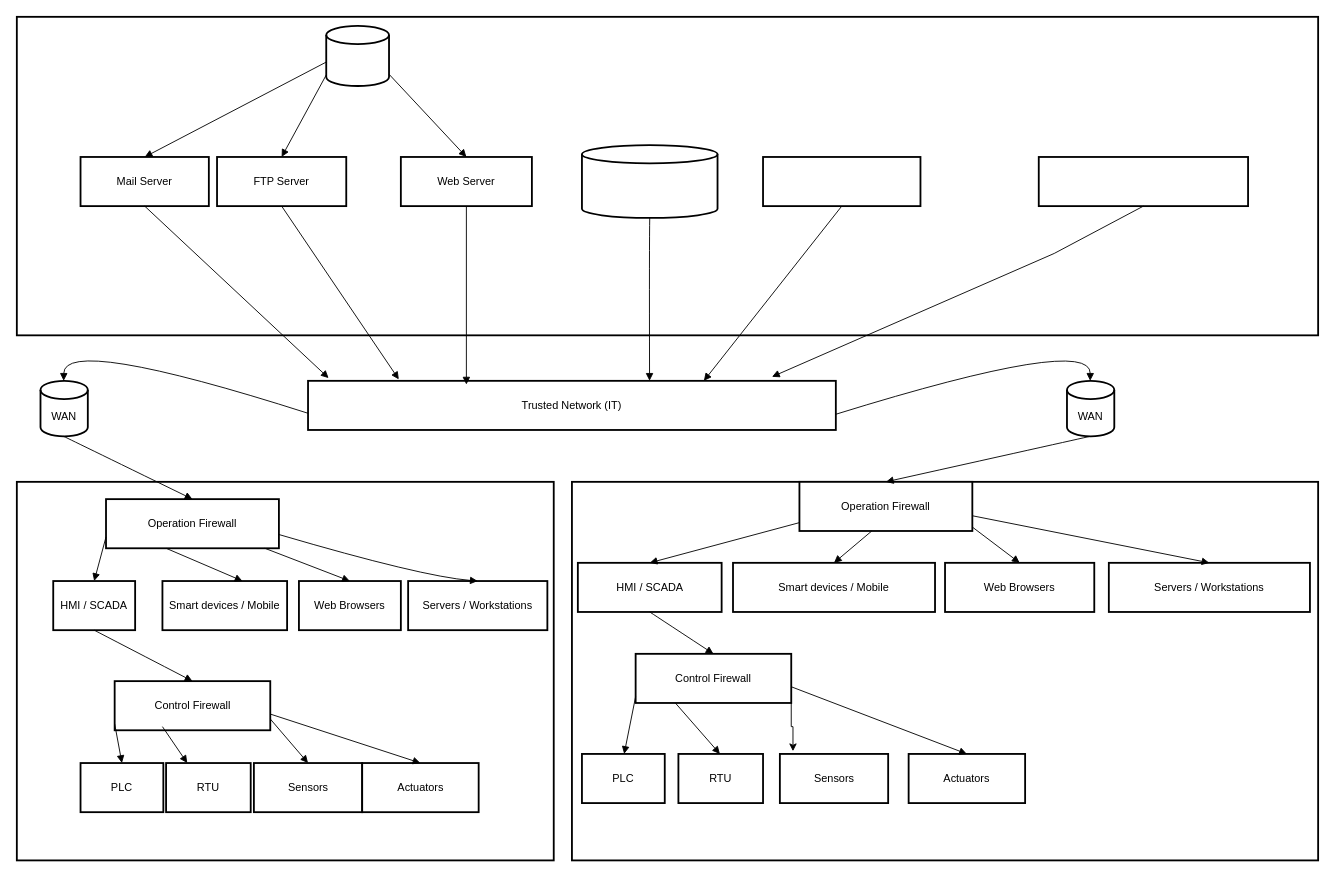
Image size: 1334x876. Some labels were removed from this diagram. The box of each missing label's shape, as (x1, y1, x2, y2) in pixels:
Enterprise Workstations: (1037, 156, 1249, 207)
Internal Databases: (581, 144, 718, 218)
Internal Servers: (762, 156, 921, 207)
Internet: (325, 25, 389, 86)
IT Network: (15, 15, 1319, 336)
Site A – OT Network: (571, 480, 1319, 861)
Site B – OT Network: (15, 480, 554, 861)
